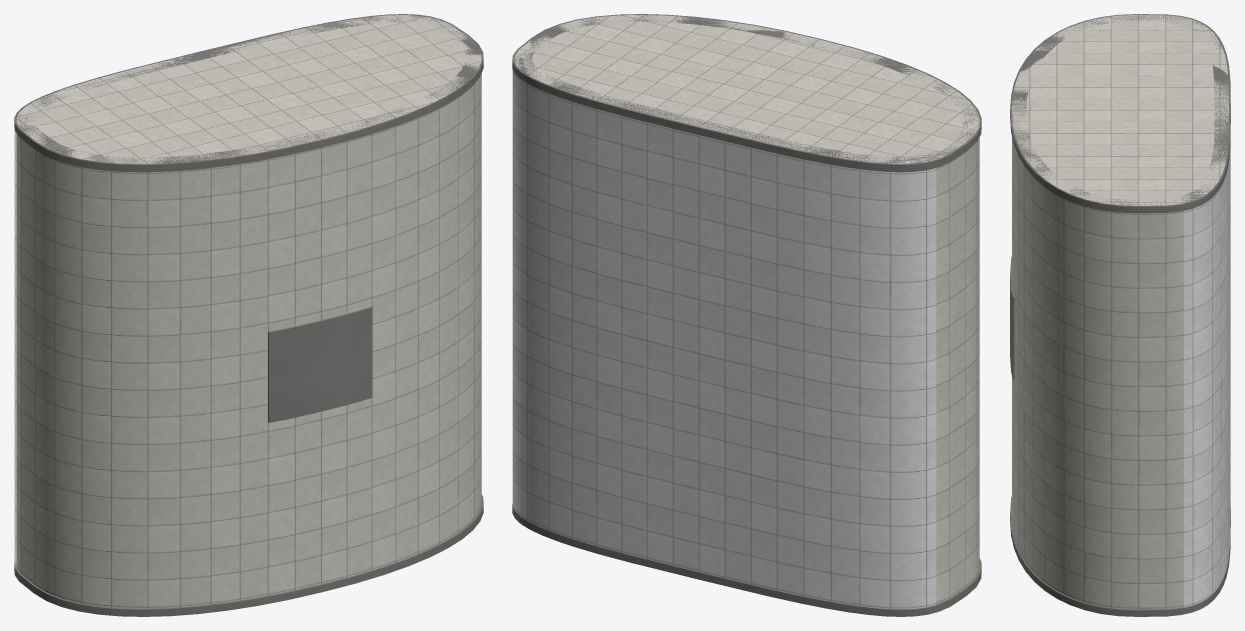
File: aero00_mk2_fuselage_tank_250.glb
3 renders of one model, left to right at view 1: azimuth 30°, elevation 25°; view 2: azimuth 150°, elevation 25°; view 3: azimuth 270°, elevation 25°, orthographic. The views are drawn at different scales.
Visible parts, largest first — view 1: fuselage, end_frames, fill_panel, belly_tiles; view 2: belly_tiles, fuselage, end_frames; view 3: fuselage, belly_tiles, end_frames, fill_panel.
Part boxes in pixels (x1,y1,x2,y2): fuselage: [16, 15, 481, 608]; end_frames: [14, 14, 483, 616]; fill_panel: [268, 306, 372, 422]; belly_tiles: [14, 131, 16, 566]; belly_tiles: [512, 70, 936, 609]; fuselage: [514, 15, 979, 603]; end_frames: [512, 14, 981, 616]; fuselage: [1012, 14, 1228, 609]; belly_tiles: [1184, 146, 1230, 607]; end_frames: [1010, 14, 1230, 616]; fill_panel: [1010, 256, 1014, 379].
Bounding box in the file's own units: 2.52 × 2.5 × 1.22.
3 materials, 3 textured.
